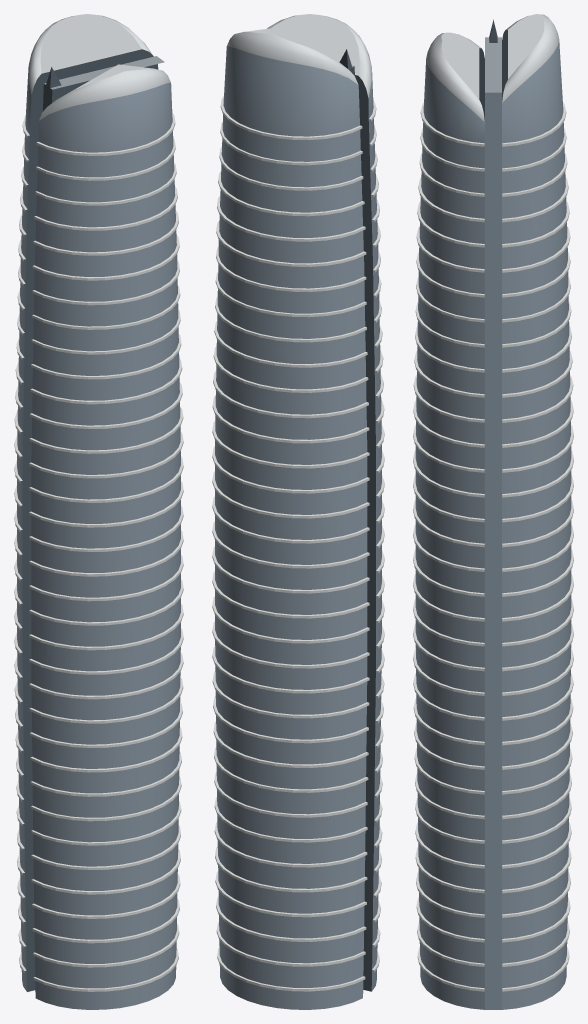
File: egypt-iconic-tower.glb
3 renders of one model, left to right at view 1: azimuth 30°, elevation 25°; view 2: azimuth 150°, elevation 25°; view 3: azimuth 270°, elevation 25°, orthographic.
Visible parts, largest first — view 1: Iconic Tower; view 2: Iconic Tower; view 3: Iconic Tower.
Part boxes in pixels (left/top/right/bottom): Iconic Tower: left=14, top=14, right=183, bottom=1009; Iconic Tower: left=212, top=14, right=384, bottom=1009; Iconic Tower: left=413, top=14, right=573, bottom=1009.
Bounding box in the file's own units: 64.6 × 394 × 60.
